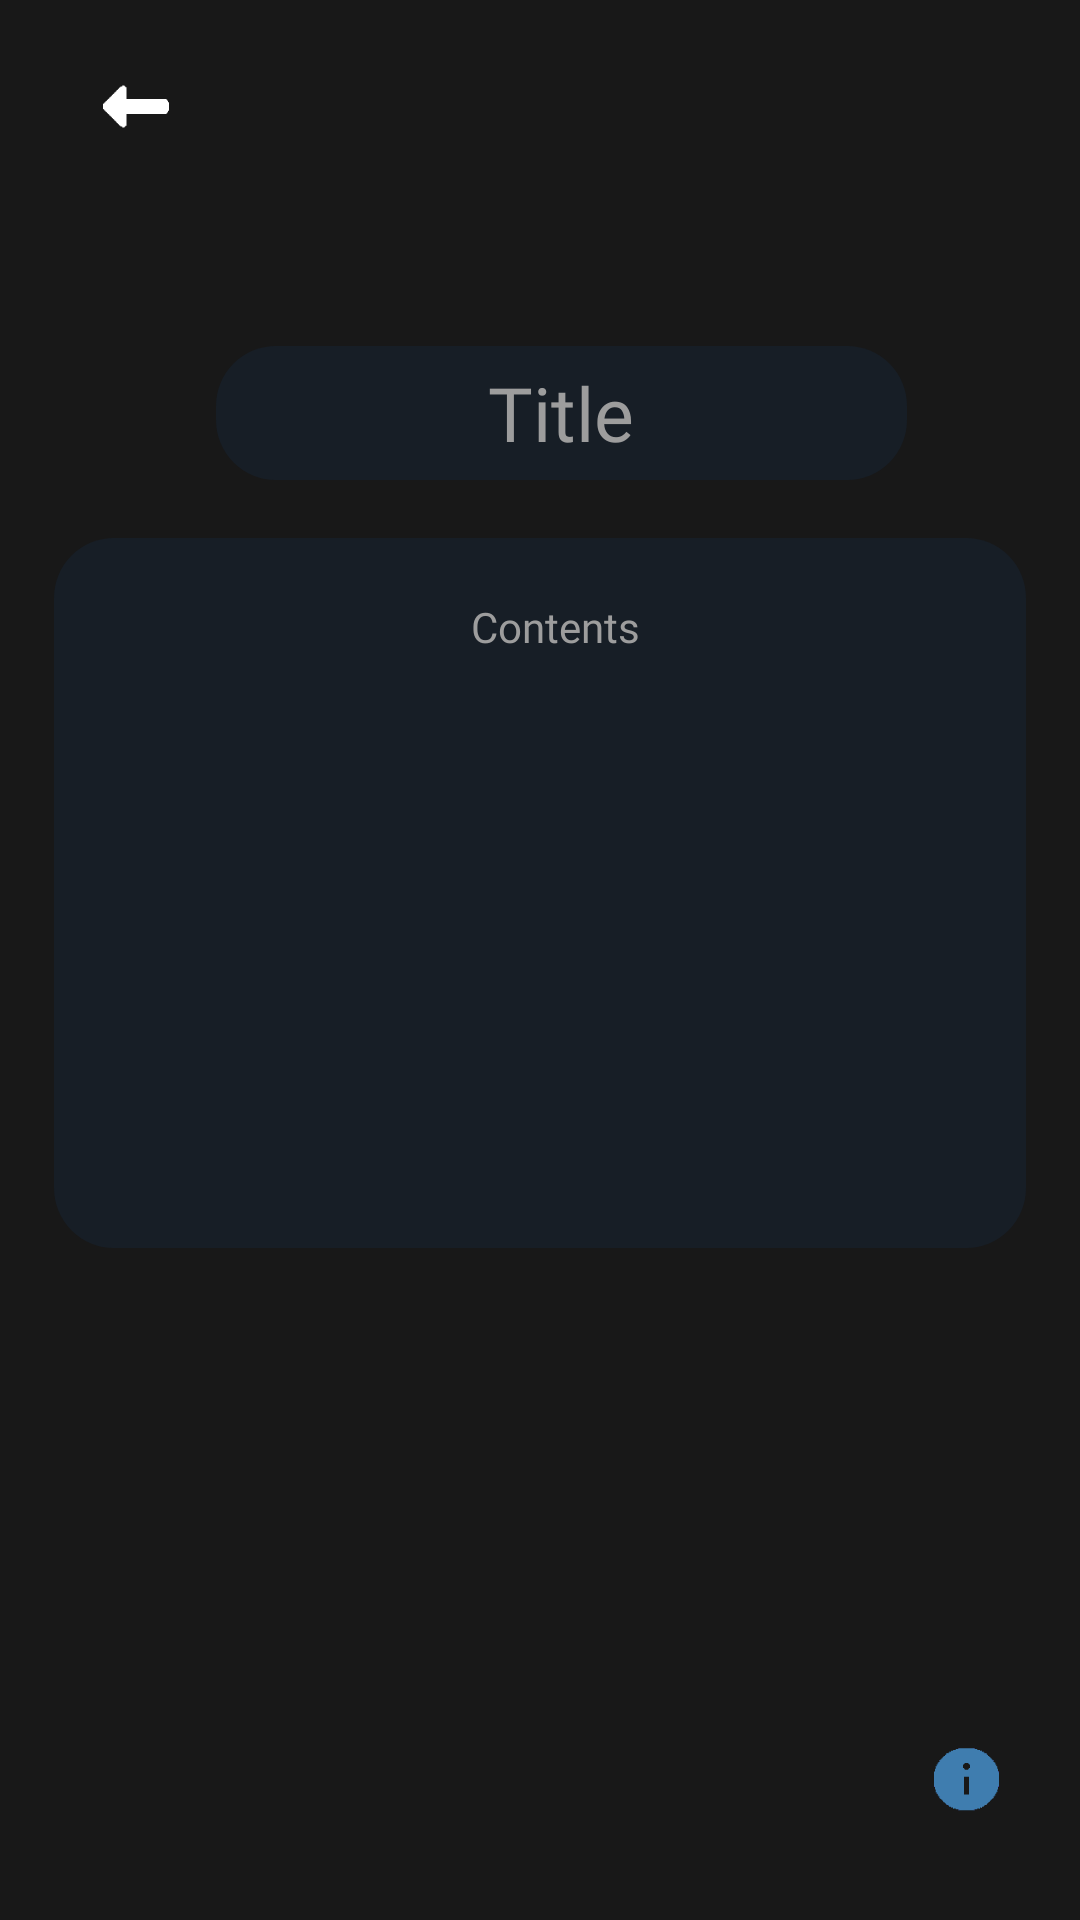

Icons on this 1080w x 1920h Android screen, each with the point to tap as (x,y):
about: (966,1779)
btnback: (136,106)
